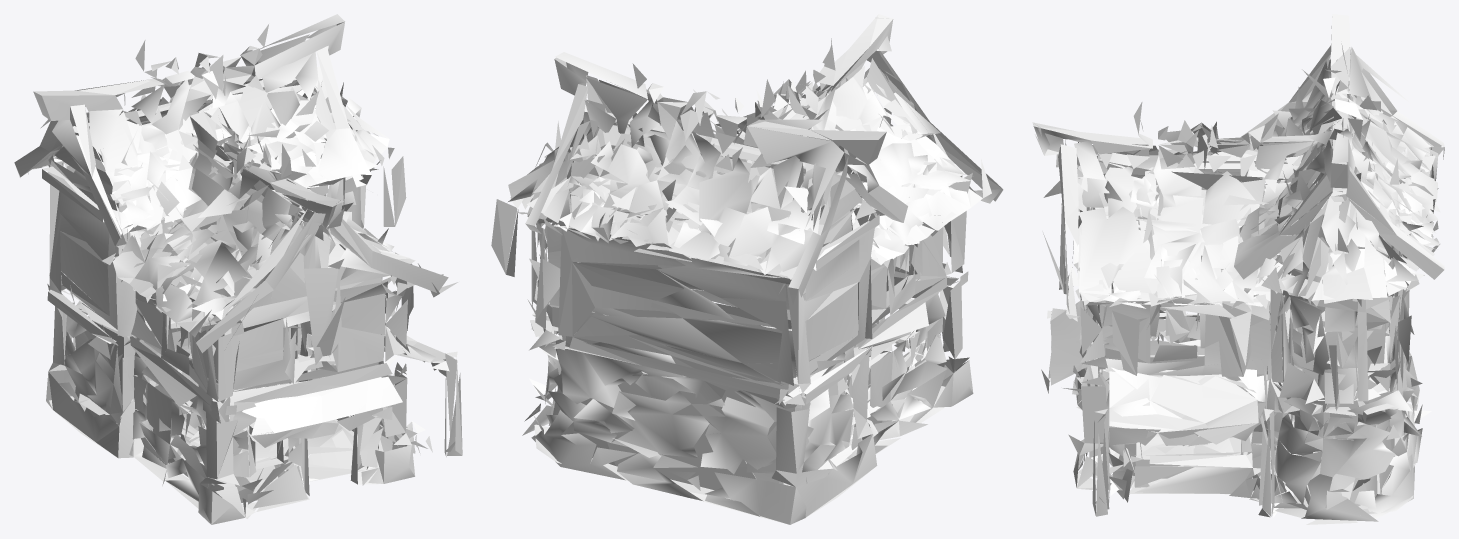
Rendered from house_two_b_lod1.glb.
The picture shows the model from 3 angles, left to right: view 1: azimuth 30°, elevation 25°; view 2: azimuth 150°, elevation 25°; view 3: azimuth 270°, elevation 25°; orthographic projection. The views are drawn at different scales.
Parts seen in each view (by area): view 1: house_two_b; view 2: house_two_b; view 3: house_two_b.
Boxes of the visible parts, bbox=[...] form: house_two_b: bbox=[14, 14, 462, 524]; house_two_b: bbox=[491, 14, 1003, 524]; house_two_b: bbox=[1032, 14, 1444, 524].
Bounding box in the file's own units: 10.25 × 10.29 × 9.84.
1 material, 1 textured.
